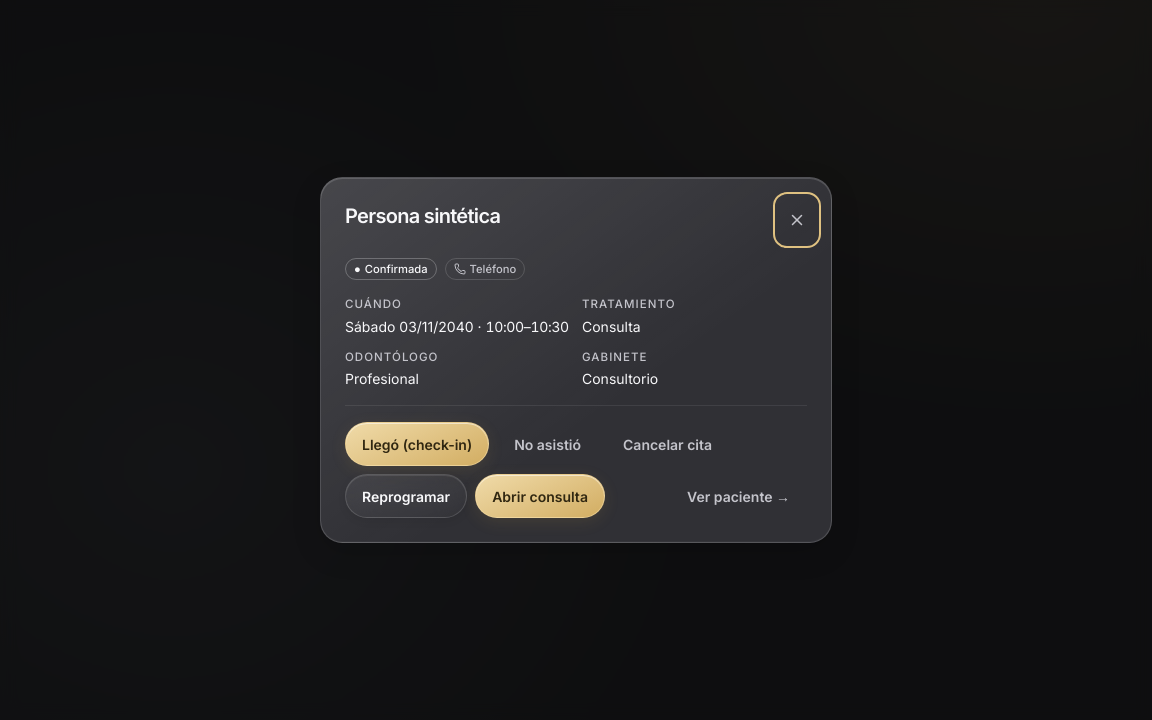
it: formularios de citas: recuperación y selección vigente › un rechazo al reprogramar libera el botón y muestra un aviso sin perder la selección
The image size is (1152, 720).
Click the button "Reprogramar": (406, 496) [345,474,467,518]
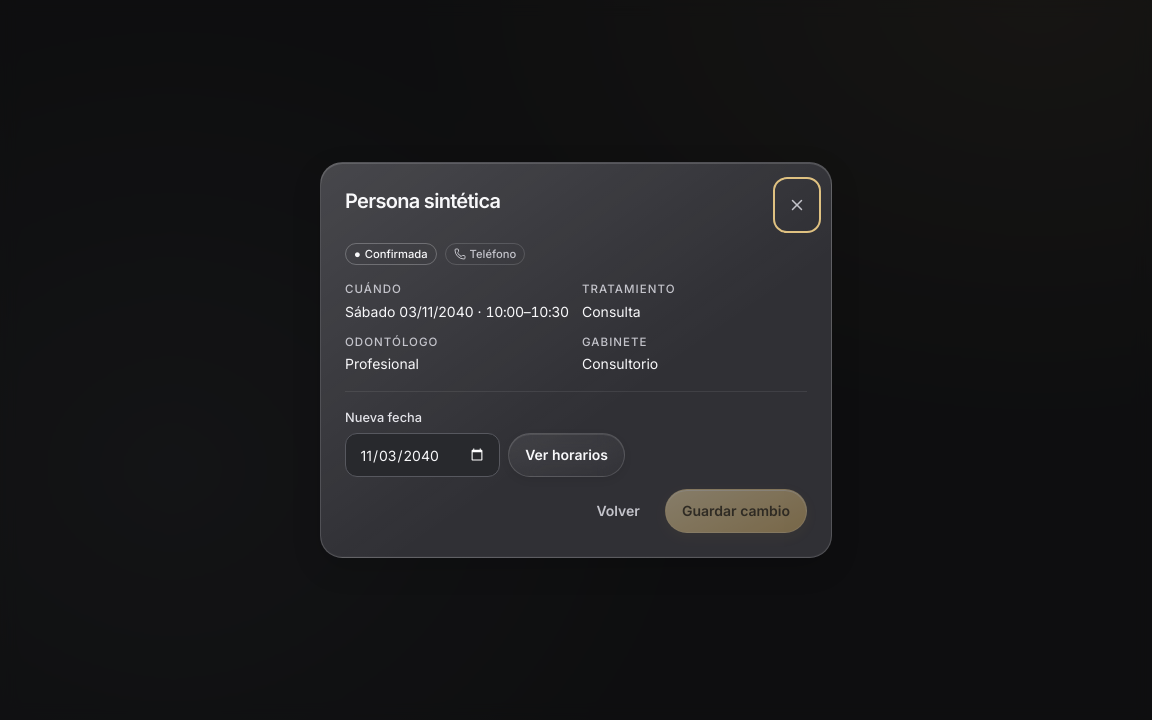
Click the button "Ver horarios": (567, 455) [508,433,625,477]
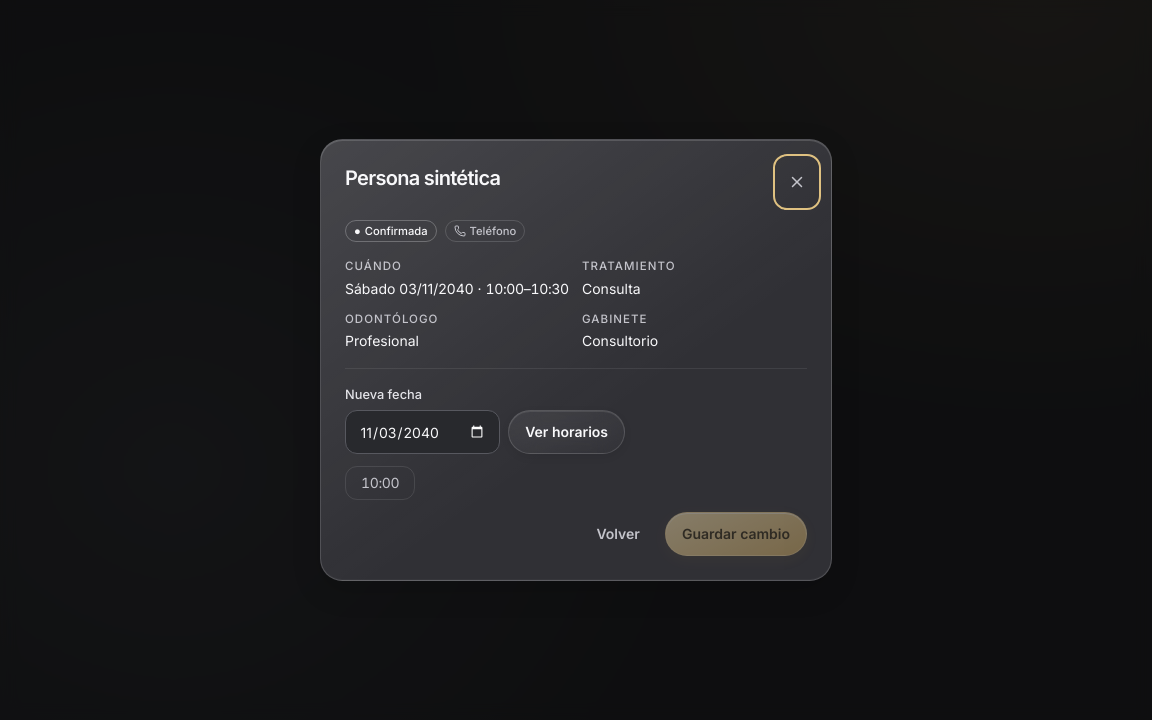
Click the button "10:00": (380, 483) [345,466,415,500]
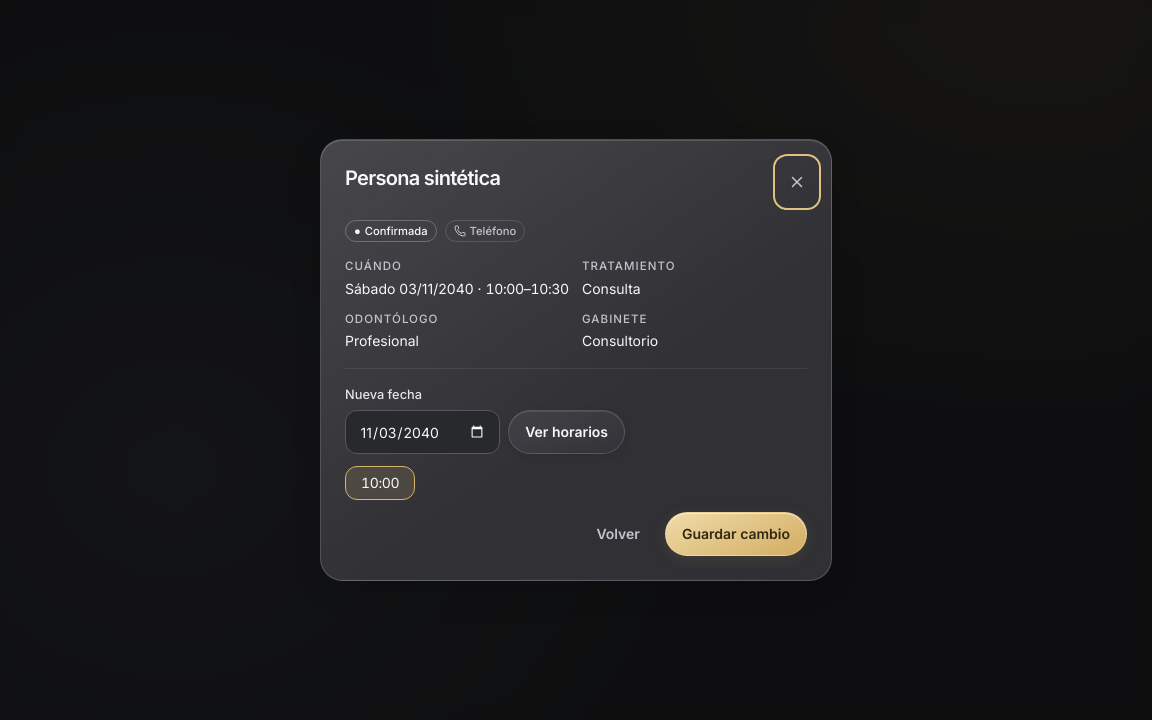
Click the button "Guardar cambio": (736, 534) [665,512,807,556]
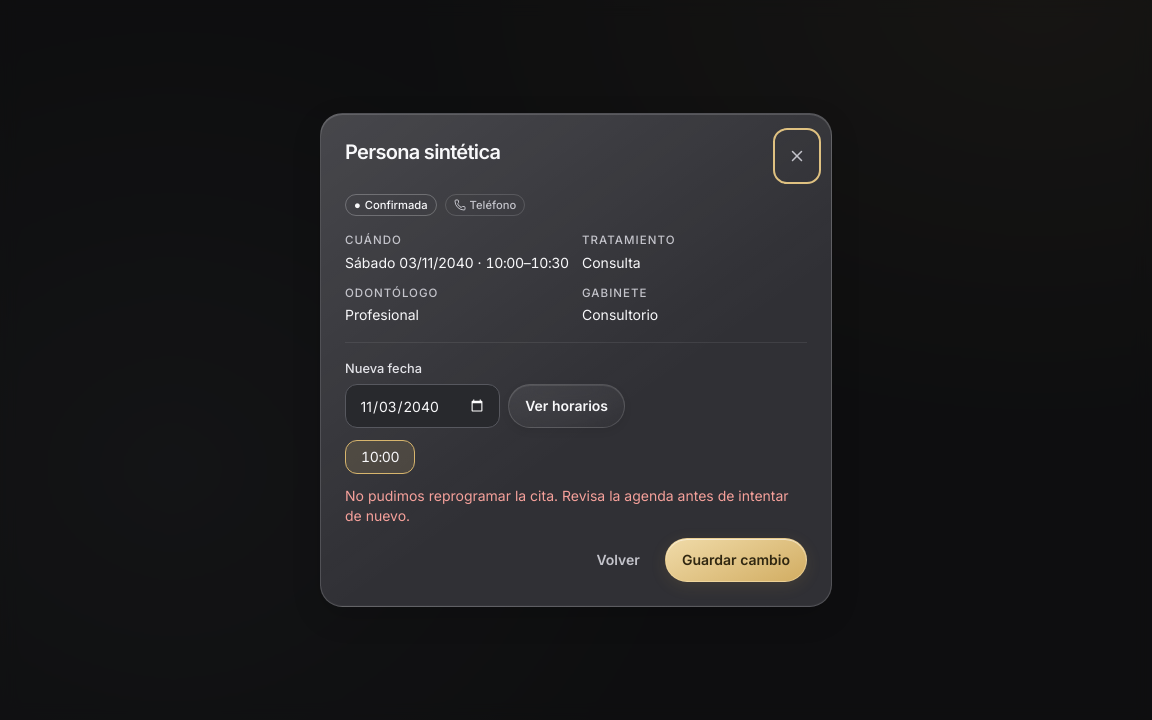
Check: the button "Guardar cambio" is enabled, box [665,538,807,582]
Check: the message shows "No pudimos reprogramar", box [345,487,789,524]
